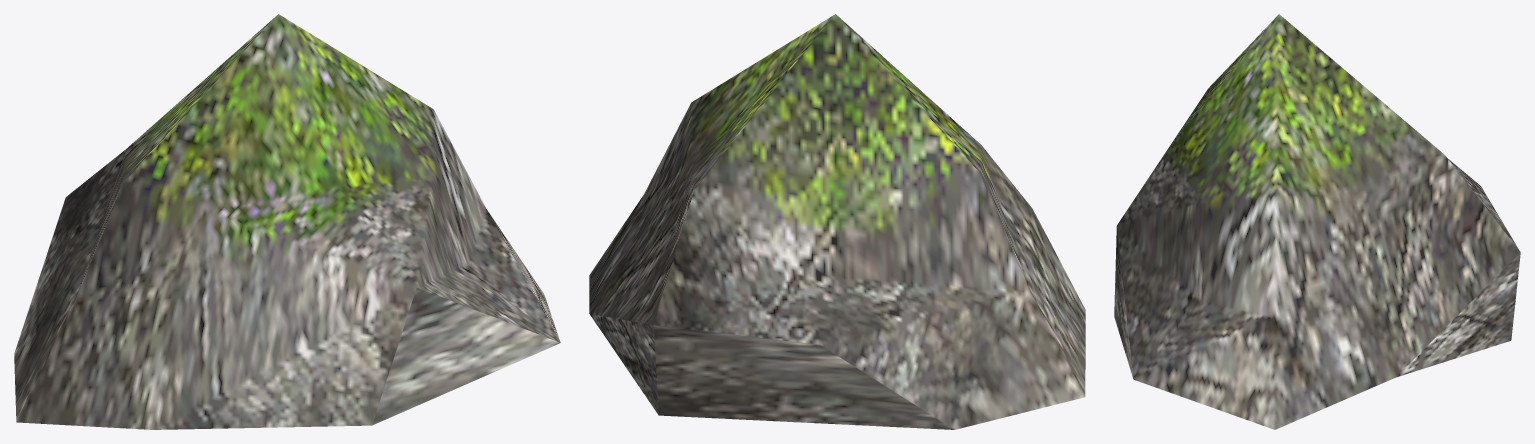
Rendered from highland1_moss.glb.
The picture shows the model from 3 angles, left to right: view 1: azimuth 30°, elevation 25°; view 2: azimuth 150°, elevation 25°; view 3: azimuth 270°, elevation 25°; orthographic projection. The views are drawn at different scales.
Visible parts, largest first — view 1: highland1_moss; view 2: highland1_moss; view 3: highland1_moss.
Boxes of the visible parts, box(x1,y1,x2,y2) form: highland1_moss: box(14, 14, 560, 429); highland1_moss: box(589, 14, 1085, 429); highland1_moss: box(1114, 14, 1520, 429).
Size of the model in its own units: 1.34 by 0.8368 by 1.02.
Materials: 1 (1 with a texture image).
